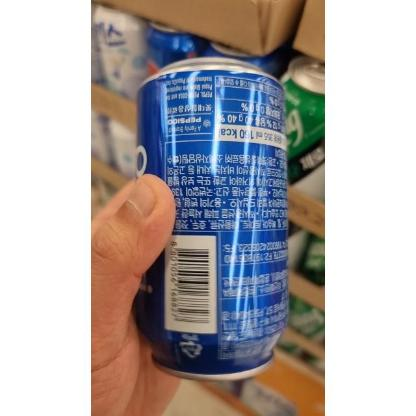Can: (136, 57, 286, 379)
